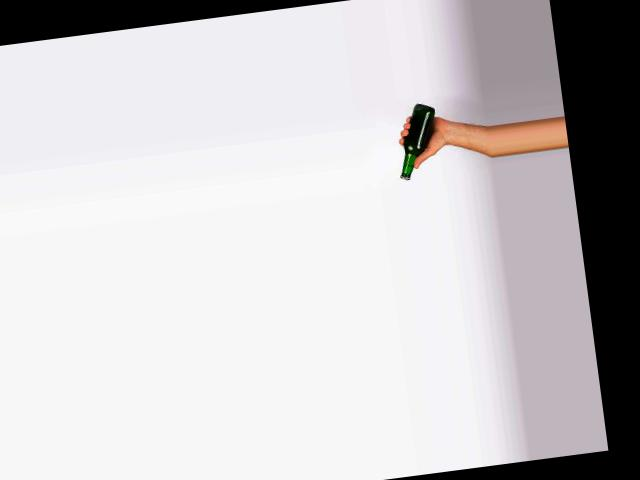beer: (392, 102, 443, 180)
